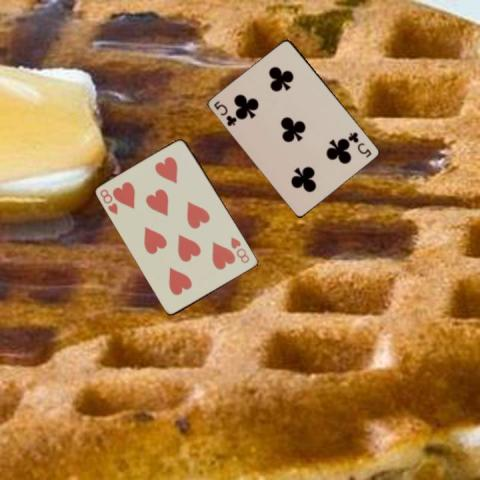5c: (210, 98, 238, 127), (346, 130, 373, 160)
8h: (228, 234, 251, 265), (98, 186, 120, 216)
